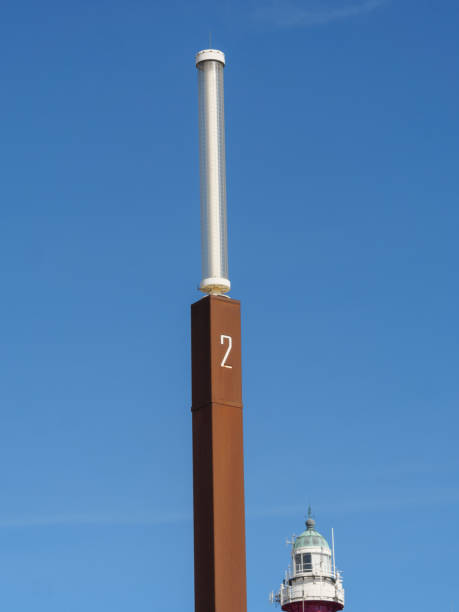light_pole: (186, 51, 250, 612)
